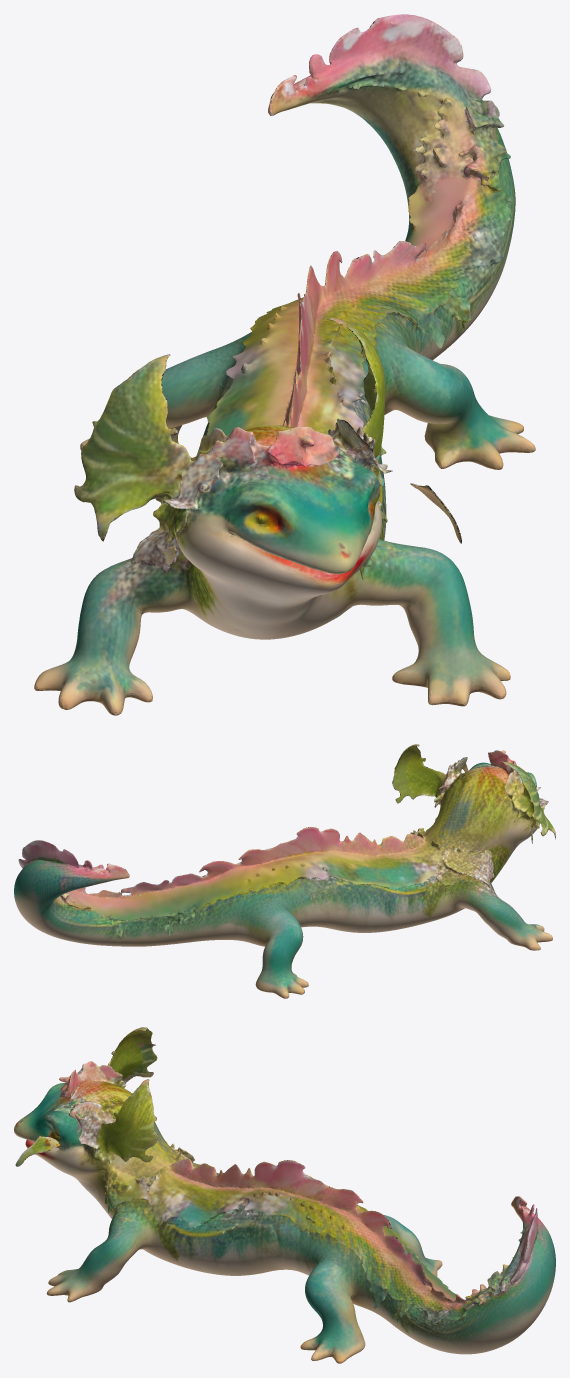
Rendered from river-dragon.glb.
3 renders of one model, top to bottom at view 1: azimuth 30°, elevation 25°; view 2: azimuth 150°, elevation 25°; view 3: azimuth 270°, elevation 25°, orthographic. The views are drawn at different scales.
Parts seen in each view (by area): view 1: model; view 2: model; view 3: model.
Boxes of the visible parts, x1,y1,x2,y2 form: model: (34, 14, 535, 715); model: (14, 744, 555, 998); model: (14, 1027, 555, 1363).
Size of the model in its own units: 1.74 by 0.7561 by 1.9.
1 material, 1 textured.
